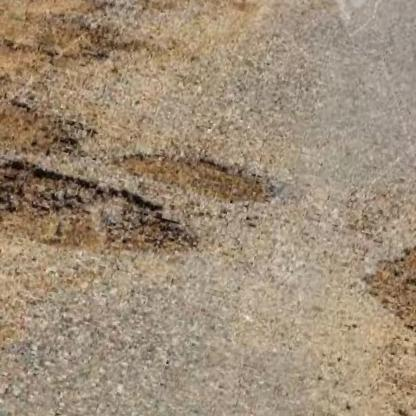pothole: (0, 139, 205, 298), (113, 131, 283, 217), (345, 179, 416, 378)
